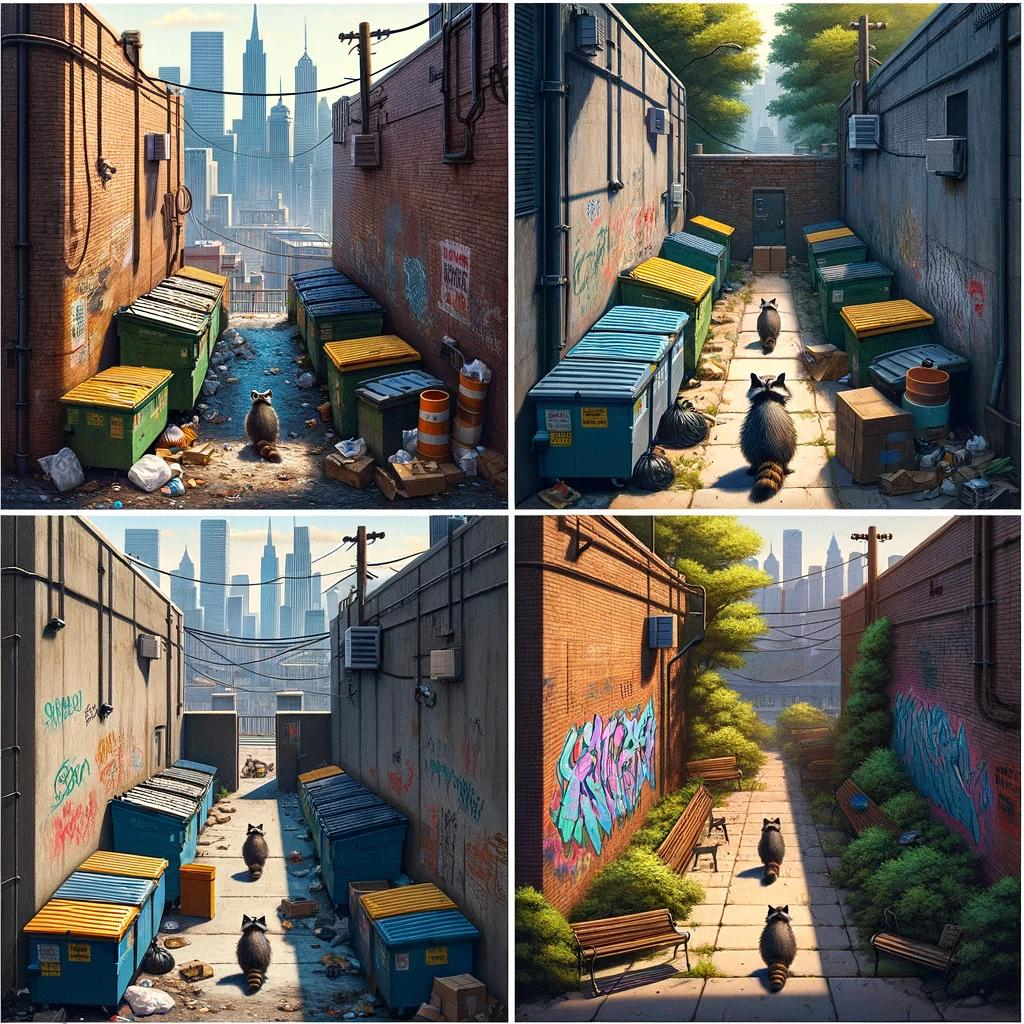raccoon: (733, 365, 802, 508), (752, 895, 802, 998), (237, 378, 288, 470), (230, 907, 277, 1002), (753, 808, 790, 888), (750, 290, 785, 360), (237, 818, 272, 887)
